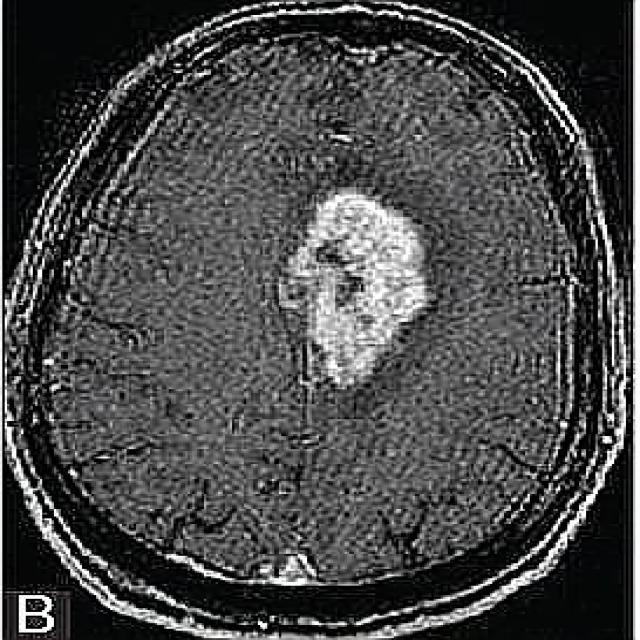Tumor-Cell: (263, 188, 436, 379)
